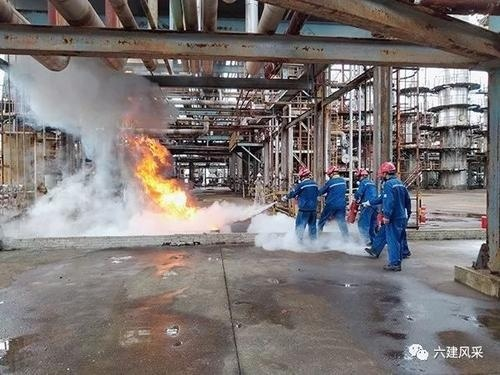fire: (122, 127, 205, 220)
